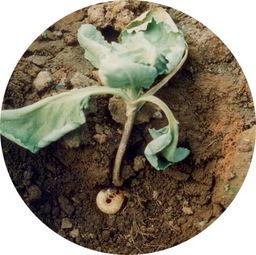grub: (93, 186, 130, 217)
